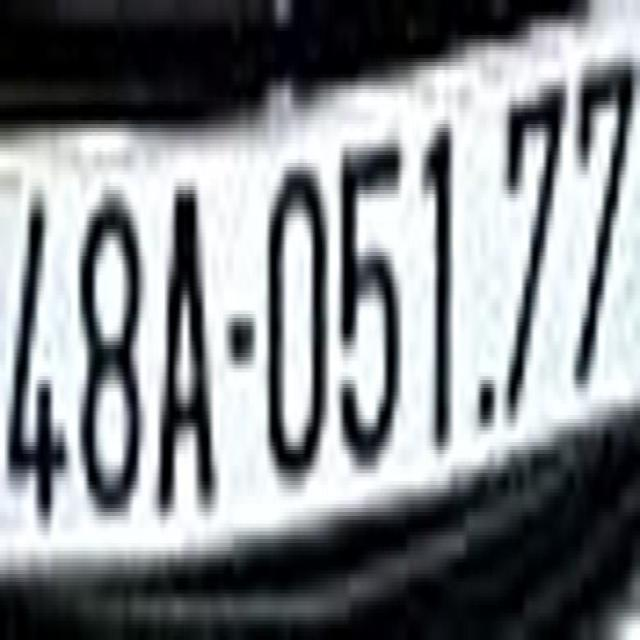0: (265, 144, 325, 492)
1: (414, 86, 468, 473)
4: (2, 178, 66, 562)
5: (336, 113, 404, 473)
7: (499, 35, 562, 434), (574, 31, 634, 400)
8: (76, 186, 144, 555)
A: (154, 167, 218, 531)
